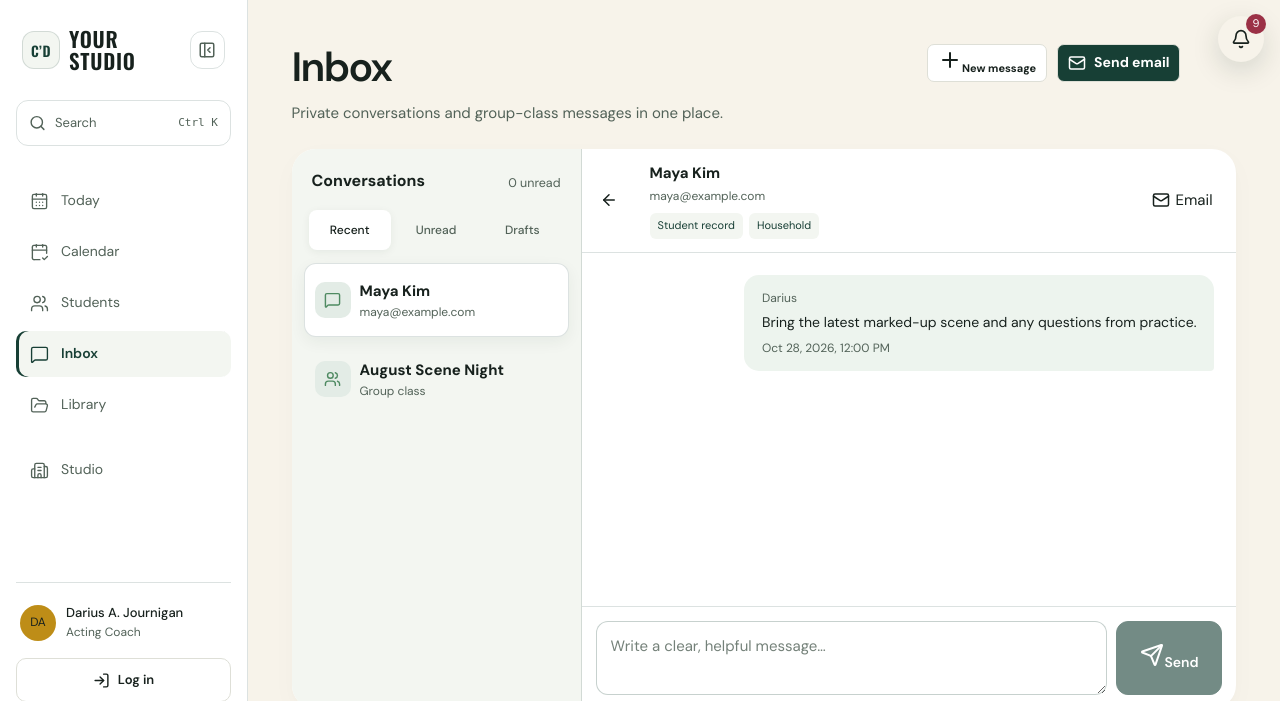
Scenario: unified inbox › lets the coach send and immediately undo a private message
Expected: the heading "Inbox" is shown, left=292, top=40, right=391, bottom=94
Type "Can you bring the revised scene?" into the text box labelled "message".
click(852, 658); type("Can you bring the revised scene?")  # box left=596, top=621, right=1108, bottom=695
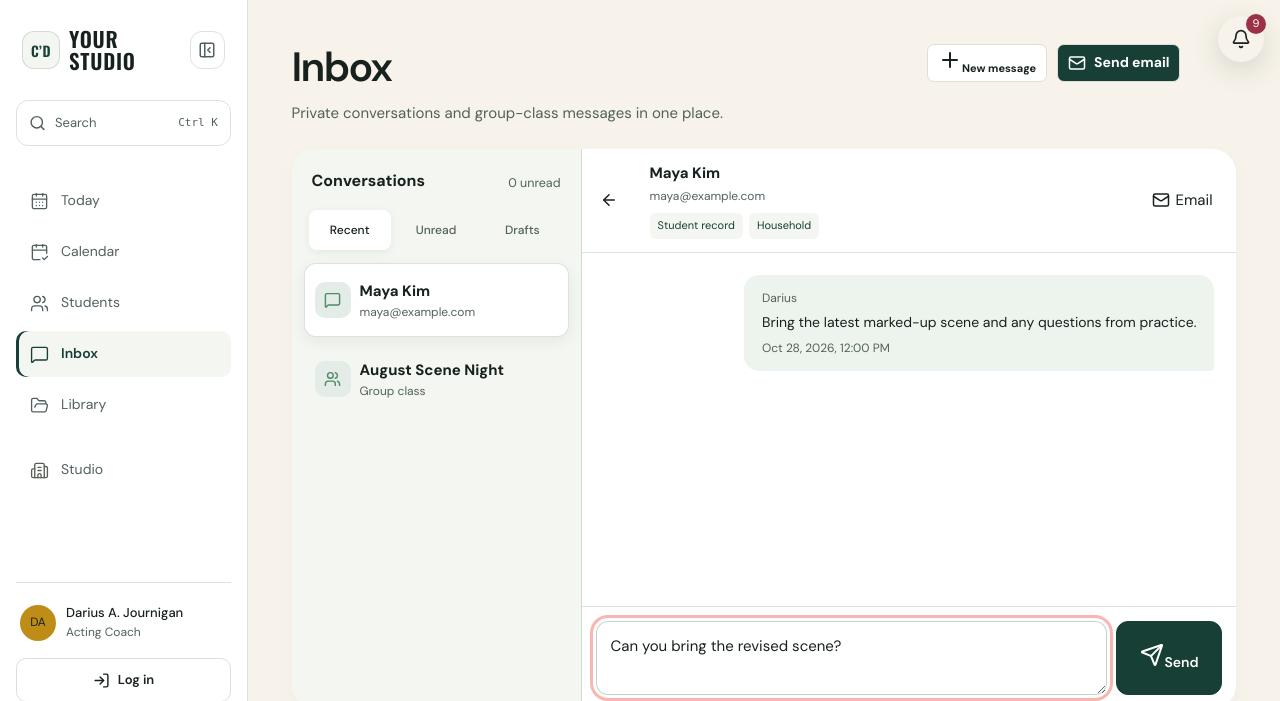
Click the button "Send".
click(1170, 658)  # box left=1116, top=621, right=1222, bottom=695
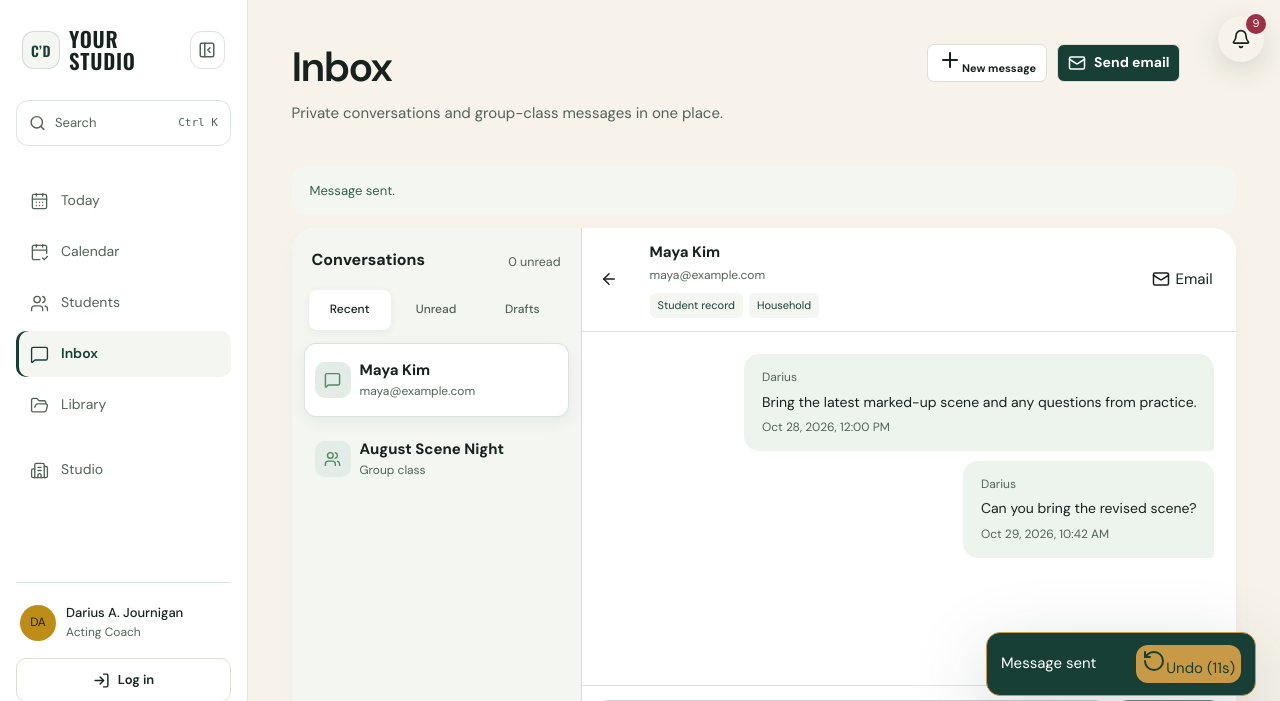
Expected: the text "Can you bring the revised scene?" is shown, left=981, top=498, right=1196, bottom=520
Click the button "Undo (11s)".
click(1189, 664)  # box left=1136, top=645, right=1241, bottom=683
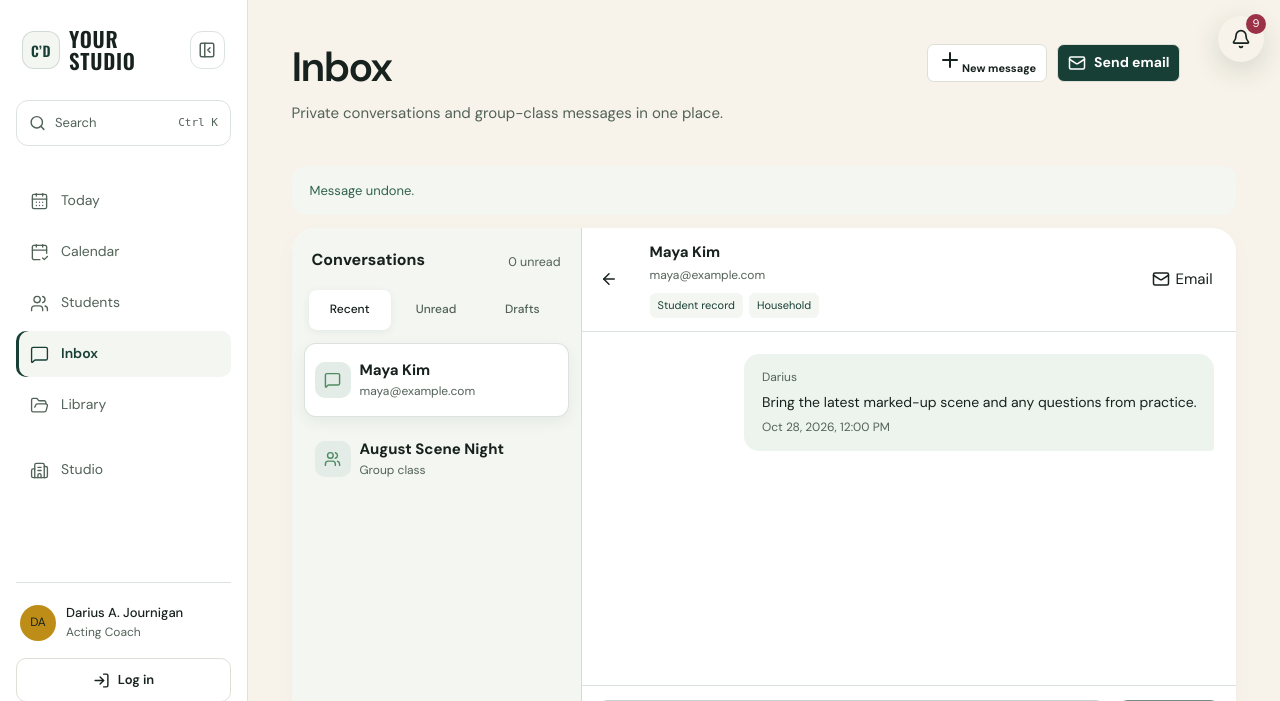
Expected: the text "Can you bring the revised scene?" is gone
Expected: the text "Message undone." is shown, left=292, top=166, right=1236, bottom=215
